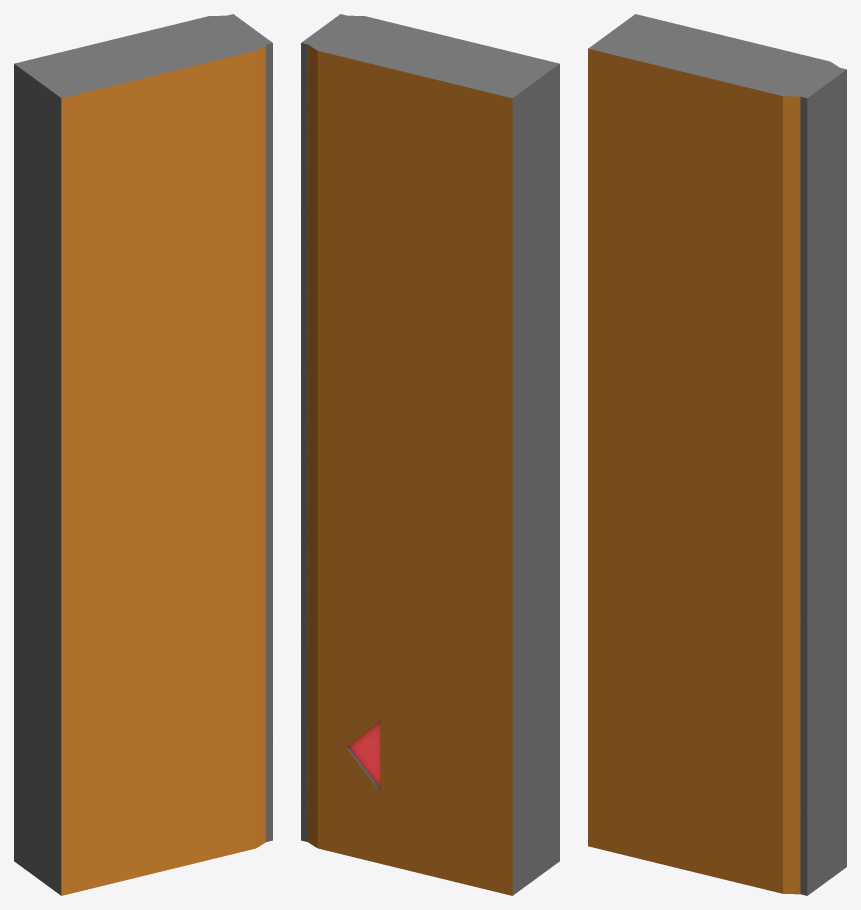
File: slidingdoor03b.gltf
3 views of the same model, side by side, from view 1: azimuth 30°, elevation 25°; view 2: azimuth 150°, elevation 25°; view 3: azimuth 330°, elevation 25° (orthographic).
Parts seen in each view (by area): view 1: SlidingDoor03; view 2: SlidingDoor03; view 3: SlidingDoor03.
Boxes of the visible parts, x1,y1,x2,y2 form: SlidingDoor03: [14, 14, 272, 895]; SlidingDoor03: [301, 14, 559, 895]; SlidingDoor03: [588, 14, 846, 895].
Size of the model in its own units: 0.63 by 2.23 by 0.24.
Materials: 1 (1 with a texture image).
